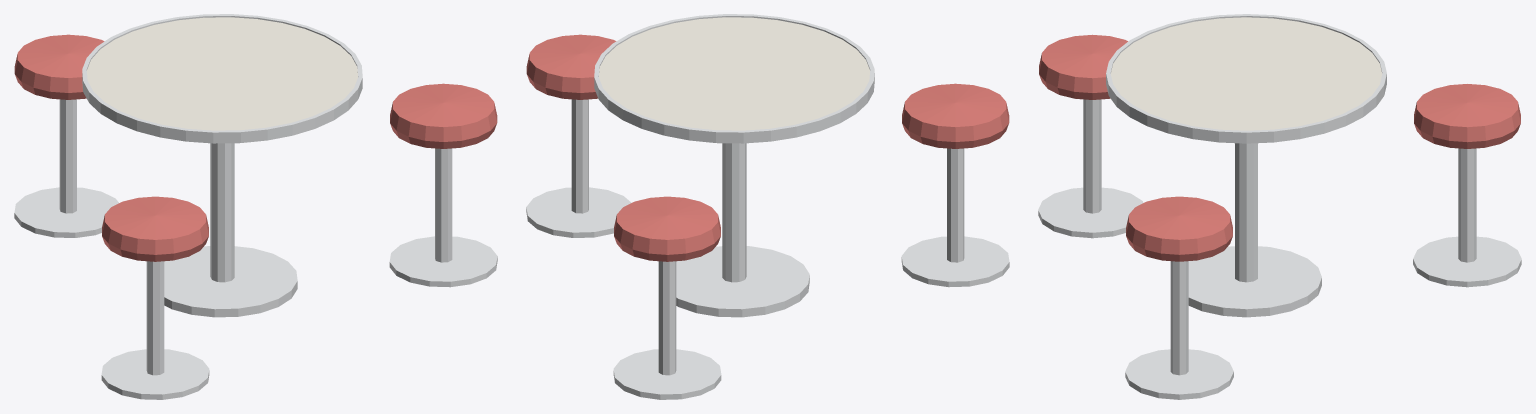
File: table_stools.glb
3 views of the same model, side by side, from view 1: azimuth 30°, elevation 25°; view 2: azimuth 150°, elevation 25°; view 3: azimuth 270°, elevation 25° (orthographic).
Visible parts, largest first — view 1: table_stools_chrome, table_stools_cream, table_stools_vinyl_r; view 2: table_stools_chrome, table_stools_cream, table_stools_vinyl_r; view 3: table_stools_chrome, table_stools_cream, table_stools_vinyl_r.
Boxes of the visible parts, box(x1,y1,x2,y2) form: table_stools_chrome: box(14, 14, 497, 399); table_stools_cream: box(87, 17, 357, 130); table_stools_vinyl_r: box(14, 34, 497, 261); table_stools_chrome: box(526, 14, 1009, 399); table_stools_cream: box(599, 17, 869, 130); table_stools_vinyl_r: box(526, 34, 1009, 261); table_stools_chrome: box(1038, 14, 1521, 399); table_stools_cream: box(1111, 17, 1382, 130); table_stools_vinyl_r: box(1039, 34, 1520, 261).
Bounding box in the file's own units: 1.63 × 0.775 × 1.6.
